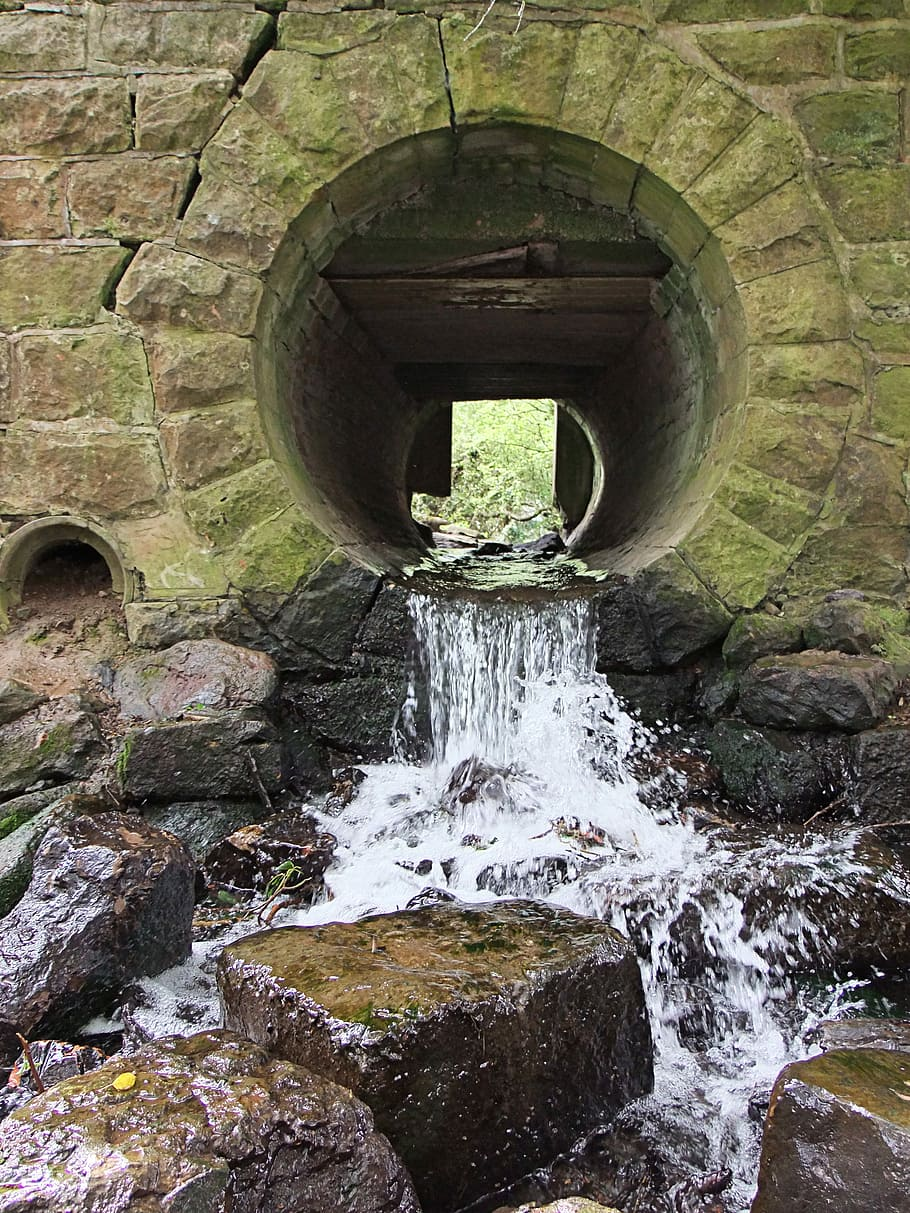Culvert: (258, 124, 748, 609), (2, 524, 125, 622)
Empty Outlet: (258, 124, 748, 597), (2, 524, 125, 622)
